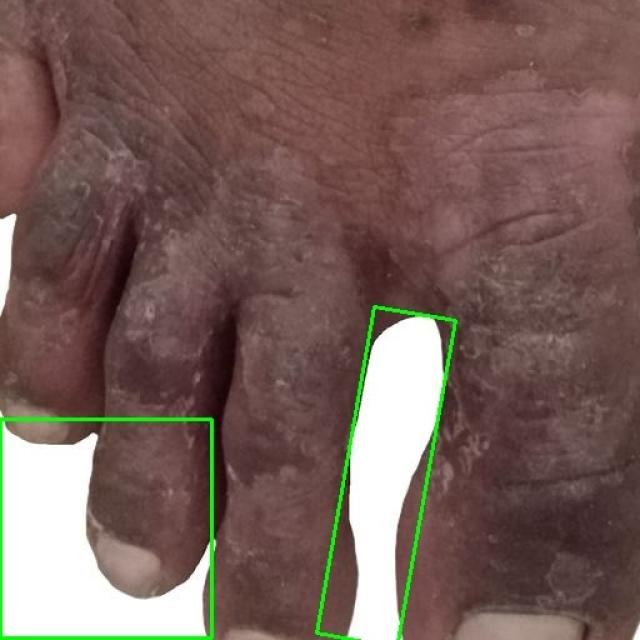Eczema: (0, 420, 212, 639), (317, 307, 455, 640)
